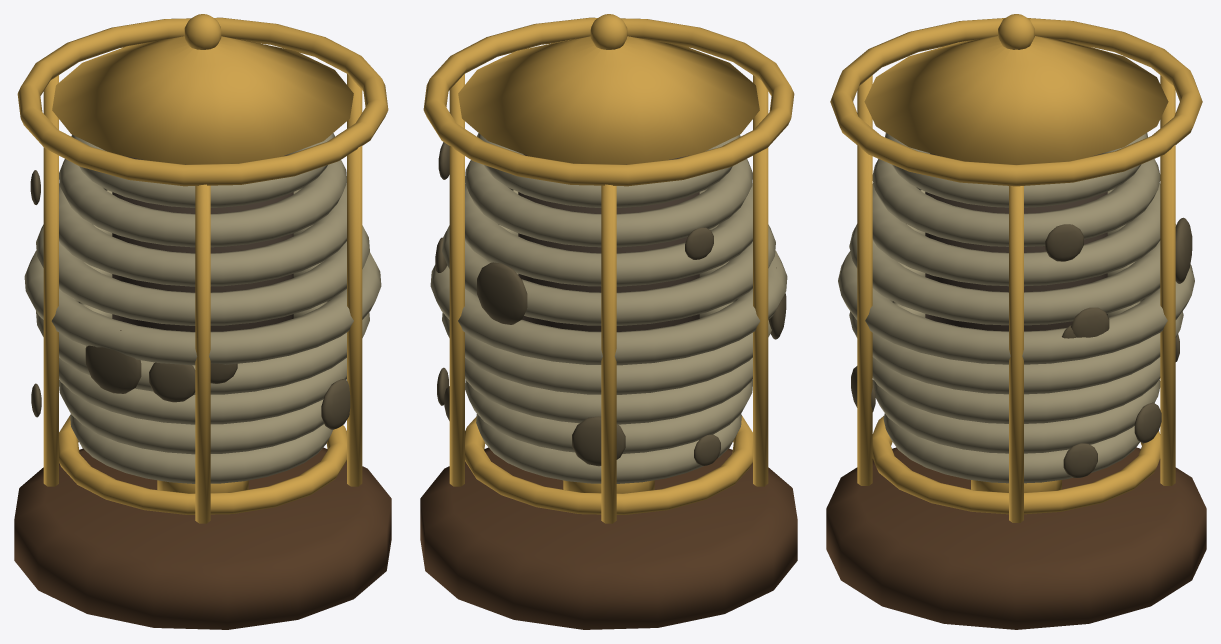
The model's file is linse_trueb.glb.
3 renders of one model, left to right at view 1: azimuth 30°, elevation 25°; view 2: azimuth 150°, elevation 25°; view 3: azimuth 270°, elevation 25°, orthographic.
Parts seen in each view (by area): view 1: d; view 2: d; view 3: d.
Boxes of the visible parts, <box> form: d: <box>14,14,391,629</box>; d: <box>420,14,797,629</box>; d: <box>826,14,1206,629</box>.
Bounding box in the file's own units: 1 × 1.55 × 1.
